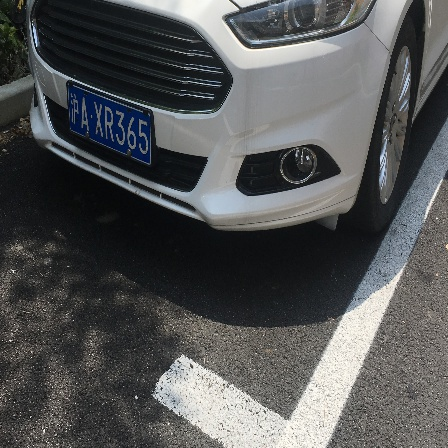plate: (64, 81, 156, 166)
